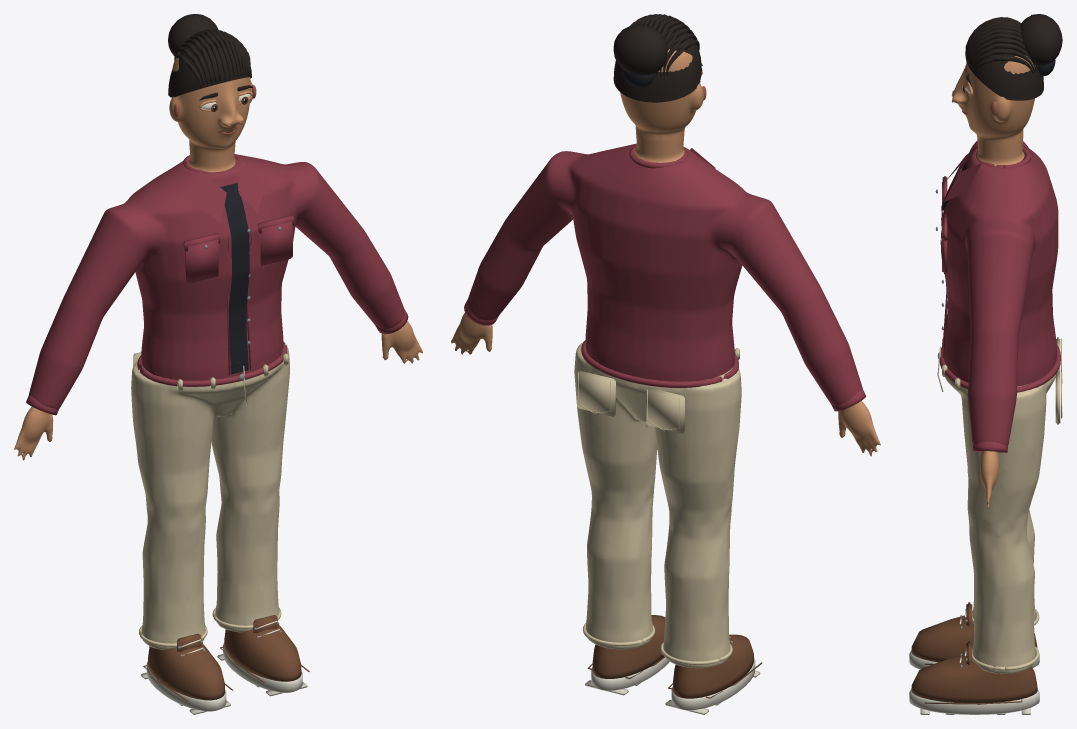
File: NPC2_09_Civil_Male_Plaid.fbx
The picture shows the model from 3 angles, left to right: view 1: azimuth 30°, elevation 25°; view 2: azimuth 150°, elevation 25°; view 3: azimuth 270°, elevation 25°; orthographic projection. The views are drawn at different scales.
Parts seen in each view (by area): view 1: Garment_Top_Continuous.010, Trouser_Continuous.010, Skin_09_Civil_Male_Plaid, Undershirt_Front.003, Shoe_Upper.020, Shoe_Upper.021, Hair_Cap.010, Chest_Pocket.004, Chest_Pocket.005, Collar_Lapel.008, Hair_Bun.001, Top_Hem.010 (+3 smaller); view 2: Garment_Top_Continuous.010, Trouser_Continuous.010, Skin_09_Civil_Male_Plaid, Shoe_Upper.020, Hair_Cap.010, Shoe_Upper.021, Hair_Bun.001, Back_Pocket.021, Back_Pocket.020, Top_Hem.010, Shoe_Sole.020, Shoe_Sole.021; view 3: Garment_Top_Continuous.010, Trouser_Continuous.010, Skin_09_Civil_Male_Plaid, Shoe_Upper.021, Shoe_Upper.020, Hair_Cap.010, Hair_Bun.001, Shoe_Sole.021, Top_Hem.010, Collar_Lapel.009, Hair_SweptLock.079, Hair_SweptLock.080 (+9 smaller).
Part boxes in pixels (x1,y1,x2,y2): Garment_Top_Continuous.010: (29, 154, 405, 409); Trouser_Continuous.010: (131, 343, 289, 649); Skin_09_Civil_Male_Plaid: (14, 53, 422, 460); Undershirt_Front.003: (220, 183, 249, 374); Shoe_Upper.020: (148, 643, 225, 700); Shoe_Upper.021: (224, 625, 301, 681); Hair_Cap.010: (168, 39, 251, 97); Chest_Pocket.004: (185, 239, 219, 283); Chest_Pocket.005: (259, 221, 292, 265); Collar_Lapel.008: (193, 171, 226, 222); Hair_Bun.001: (168, 14, 218, 54); Top_Hem.010: (137, 341, 287, 386); Garment_Top_Continuous.010: (467, 143, 862, 405); Trouser_Continuous.010: (574, 342, 741, 668); Skin_09_Civil_Male_Plaid: (451, 49, 880, 456); Shoe_Upper.020: (672, 634, 753, 698); Hair_Cap.010: (613, 24, 701, 102); Shoe_Upper.021: (592, 615, 665, 678); Hair_Bun.001: (613, 24, 667, 75); Back_Pocket.021: (577, 370, 615, 416); Back_Pocket.020: (646, 387, 684, 433); Top_Hem.010: (581, 340, 738, 387); Shoe_Sole.020: (671, 658, 755, 710); Shoe_Sole.021: (591, 657, 669, 690); Garment_Top_Continuous.010: (941, 141, 1058, 446); Trouser_Continuous.010: (945, 374, 1055, 673); Skin_09_Civil_Male_Plaid: (952, 55, 1035, 508); Shoe_Upper.021: (911, 654, 1037, 703); Shoe_Upper.020: (911, 615, 1037, 662); Hair_Cap.010: (966, 39, 1043, 100); Hair_Bun.001: (1020, 14, 1062, 66); Shoe_Sole.021: (909, 690, 1039, 714); Top_Hem.010: (939, 344, 1060, 392); Collar_Lapel.009: (944, 163, 981, 201); Hair_SweptLock.079: (971, 43, 1036, 70); Hair_SweptLock.080: (972, 49, 1034, 72).
Bounding box in the file's own units: 1.24 × 1.87 × 0.388.
